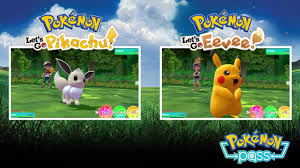pikachu: (210, 52, 244, 122)
